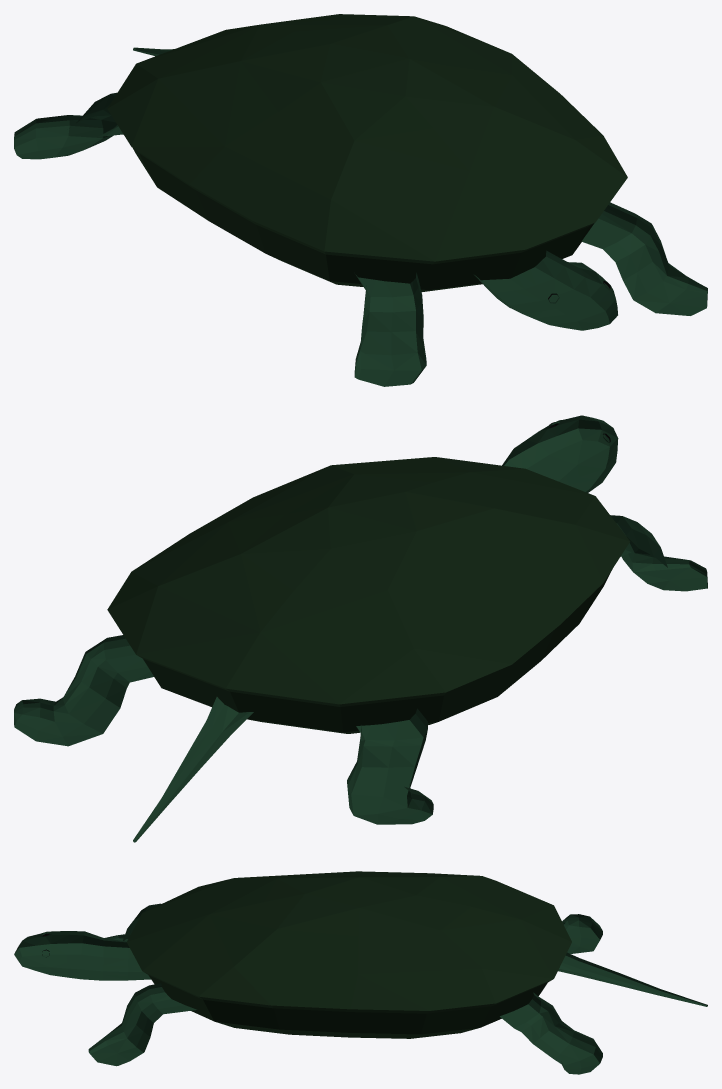
File: Turtle.fbx
3 renders of one model, top to bottom at view 1: azimuth 30°, elevation 25°; view 2: azimuth 150°, elevation 25°; view 3: azimuth 270°, elevation 25°, orthographic. The views are drawn at different scales.
Parts seen in each view (by area): view 1: TurtleShell, TurtleLimbs, Turtle Head; view 2: TurtleShell, TurtleLimbs, Turtle Head; view 3: TurtleShell, TurtleLimbs, Turtle Head.
Part boxes in pixels (x1,y1,x2,y2): TurtleShell: (107,14,627,291); TurtleLimbs: (14,47,707,386); Turtle Head: (474,250,617,330); TurtleShell: (107,457,629,733); TurtleLimbs: (14,515,707,842); Turtle Head: (502,415,618,492); TurtleShell: (127,871,571,1038); TurtleLimbs: (88,903,707,1074); Turtle Head: (14,931,150,980).
Size of the model in its own units: 21.92 by 7.76 by 42.9.
